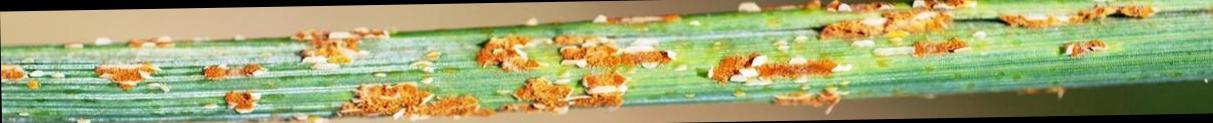Wheat: (328, 30, 682, 123), (692, 7, 1002, 105)
